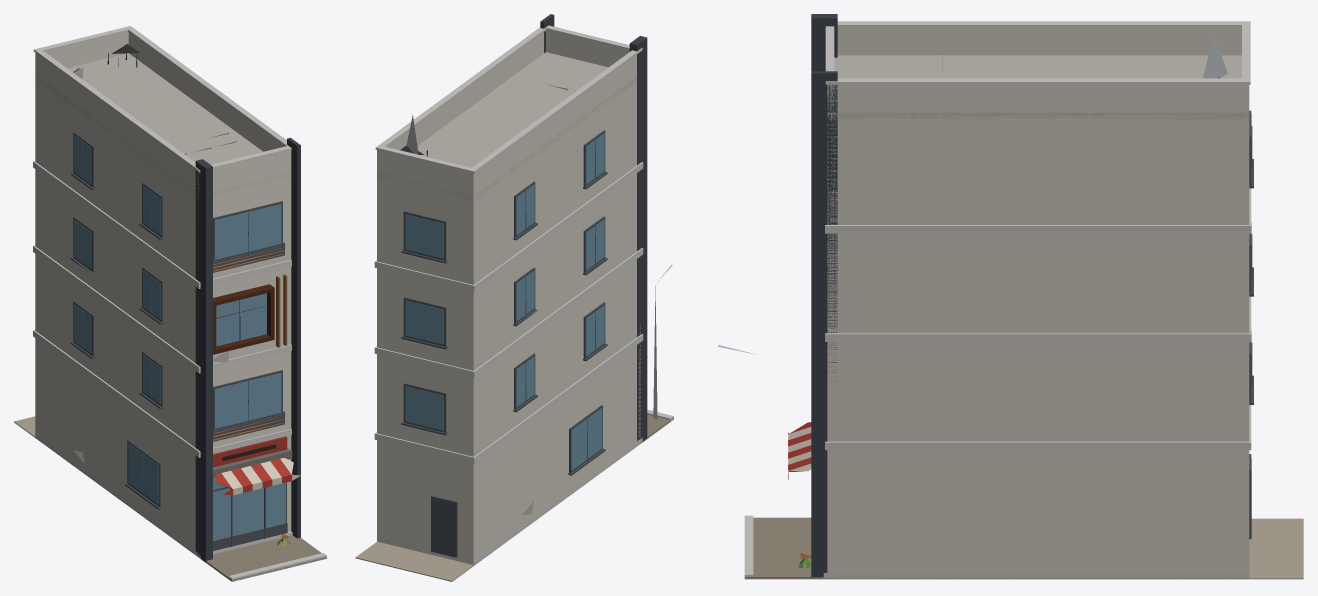
Rendered from bay2_left.glb.
3 renders of one model, left to right at view 1: azimuth 30°, elevation 25°; view 2: azimuth 150°, elevation 25°; view 3: azimuth 270°, elevation 25°, orthographic. The views are drawn at different scales.
Parts seen in each view (by area): view 1: body; view 2: body; view 3: body.
Boxes of the visible parts, x1,y1,x2,y2 form: body: (14,26,326,581); body: (355,14,673,581); body: (718,14,1303,579).
Bounding box in the file's own units: 4.42 × 17.08 × 16.88.
